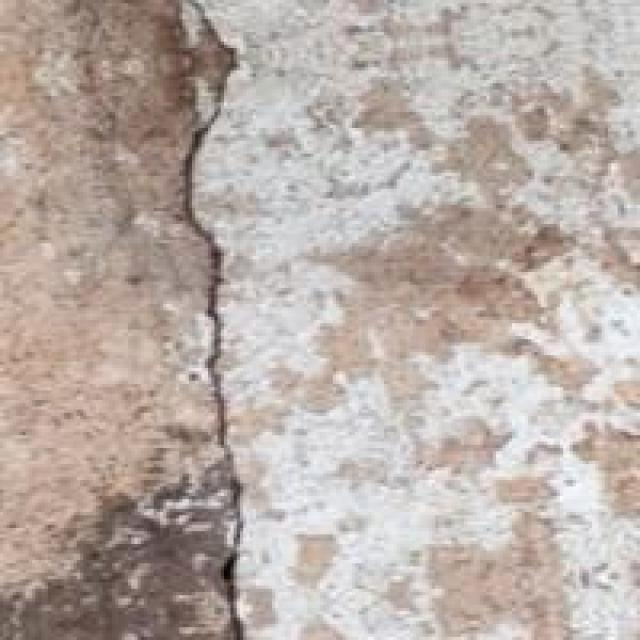crack: (128, 0, 278, 640)
